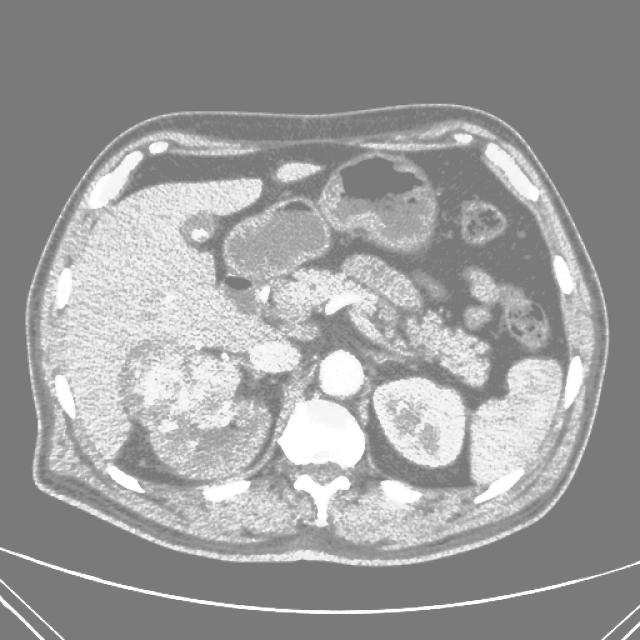TUMOR: (168, 175, 487, 439)
